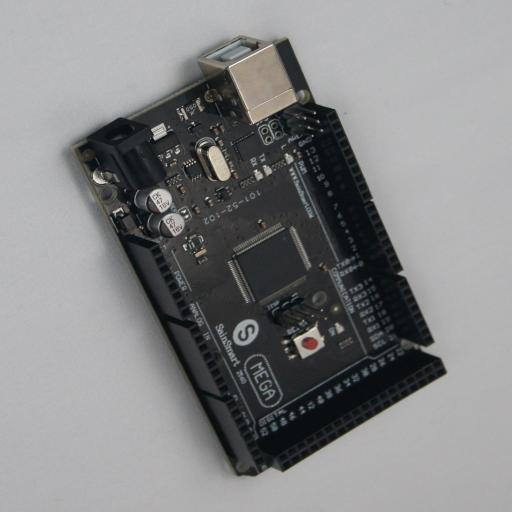Arduino Mega 2560 -Black-: (68, 38, 446, 476)
